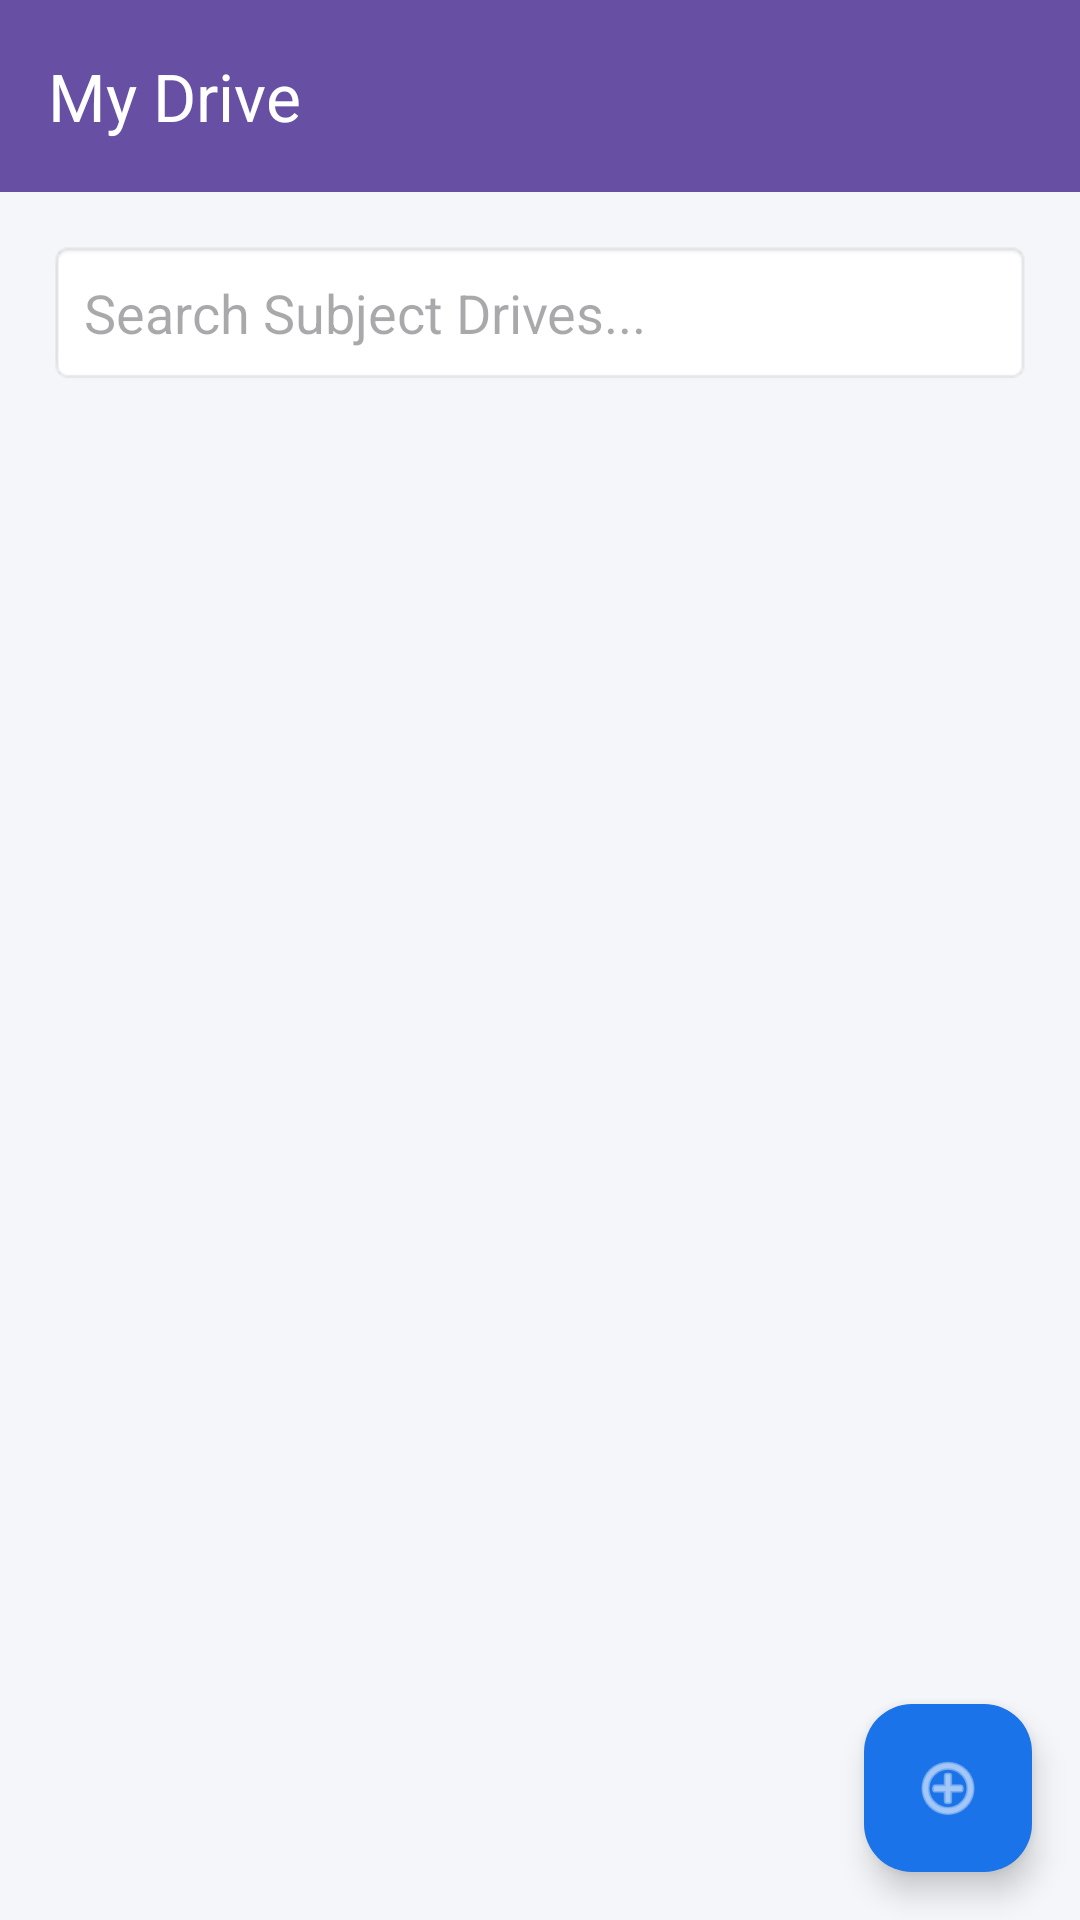

Named icons in this screenshot (1080×1920) and their centers, (x,y):
Create Subject Drive: (948,1788)
